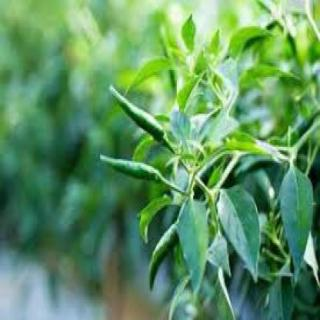green_chilli: (109, 84, 166, 147), (99, 152, 162, 189), (147, 222, 178, 292)
